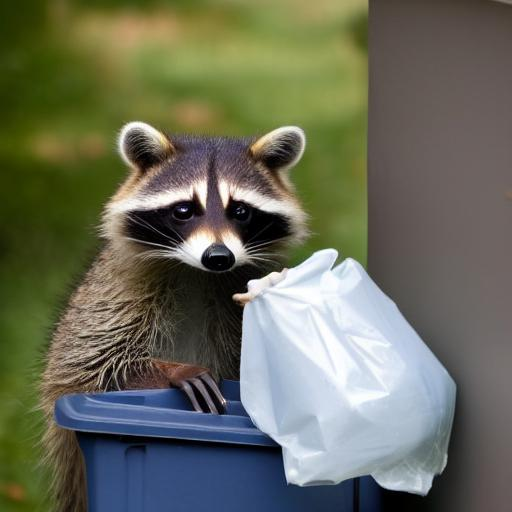raccoon: (35, 120, 316, 442)
